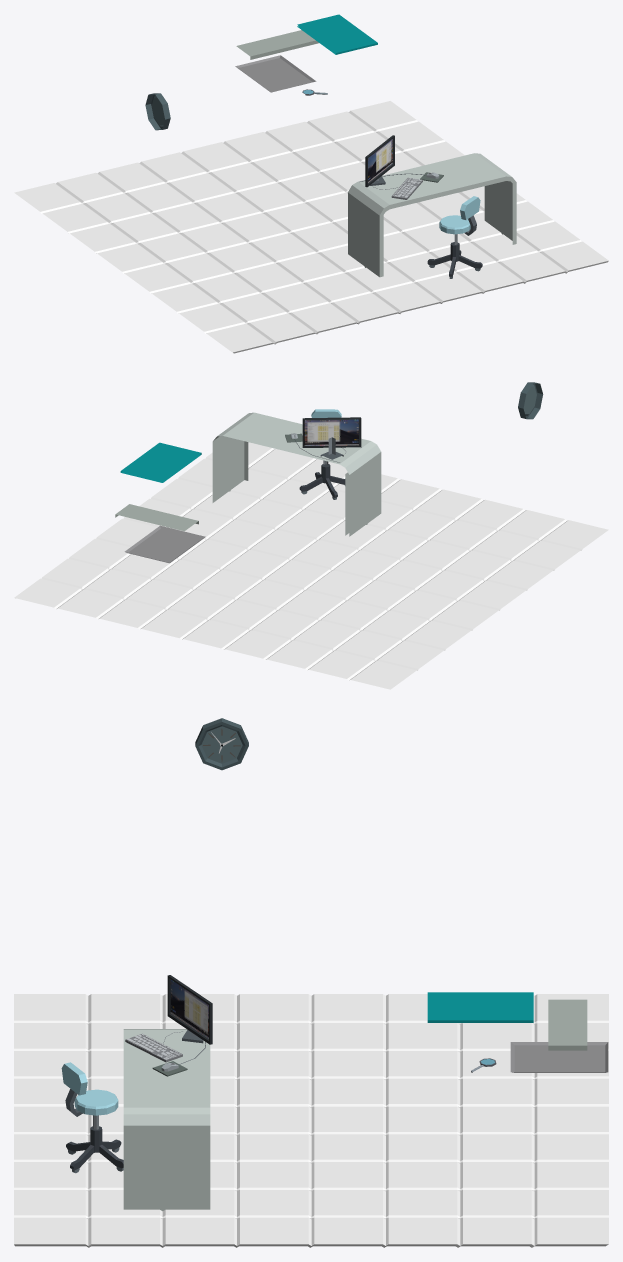
The model's file is lab.fbx.
The picture shows the model from 3 angles, top to bottom: view 1: azimuth 30°, elevation 25°; view 2: azimuth 150°, elevation 25°; view 3: azimuth 270°, elevation 25°; orthographic projection. The views are drawn at different scales.
Parts seen in each view (by area): view 1: tile, table1, shelf3, salver, wheel1, rack2, screen, frame3; view 2: tile, table1, shelf3, screen, salver, rack2, wheel1, frame3; view 3: tile, table1, shelf3, wheel1, salver, frame3, rack2, screen, buttons.
Boxes of the visible parts, <box> form: tile: <box>14,101,608,353</box>; table1: <box>348,153,516,277</box>; shelf3: <box>297,14,377,54</box>; salver: <box>235,55,316,92</box>; wheel1: <box>427,196,482,278</box>; rack2: <box>236,30,318,59</box>; screen: <box>365,135,394,187</box>; frame3: <box>145,93,170,130</box>; tile: <box>14,442,608,689</box>; table1: <box>212,412,381,536</box>; shelf3: <box>120,442,201,482</box>; screen: <box>302,417,361,447</box>; salver: <box>124,525,205,563</box>; rack2: <box>115,504,198,531</box>; wheel1: <box>299,409,345,499</box>; frame3: <box>518,382,543,419</box>; tile: <box>14,994,608,1247</box>; table1: <box>123,1029,210,1211</box>; shelf3: <box>427,992,533,1022</box>; wheel1: <box>61,1062,123,1173</box>; salver: <box>510,1042,608,1072</box>; frame3: <box>195,718,248,770</box>; rack2: <box>548,999,587,1050</box>; screen: <box>167,975,212,1044</box>; buttons: <box>125,1033,182,1062</box>.
Size of the model in its own units: 192 by 100 by 192.
